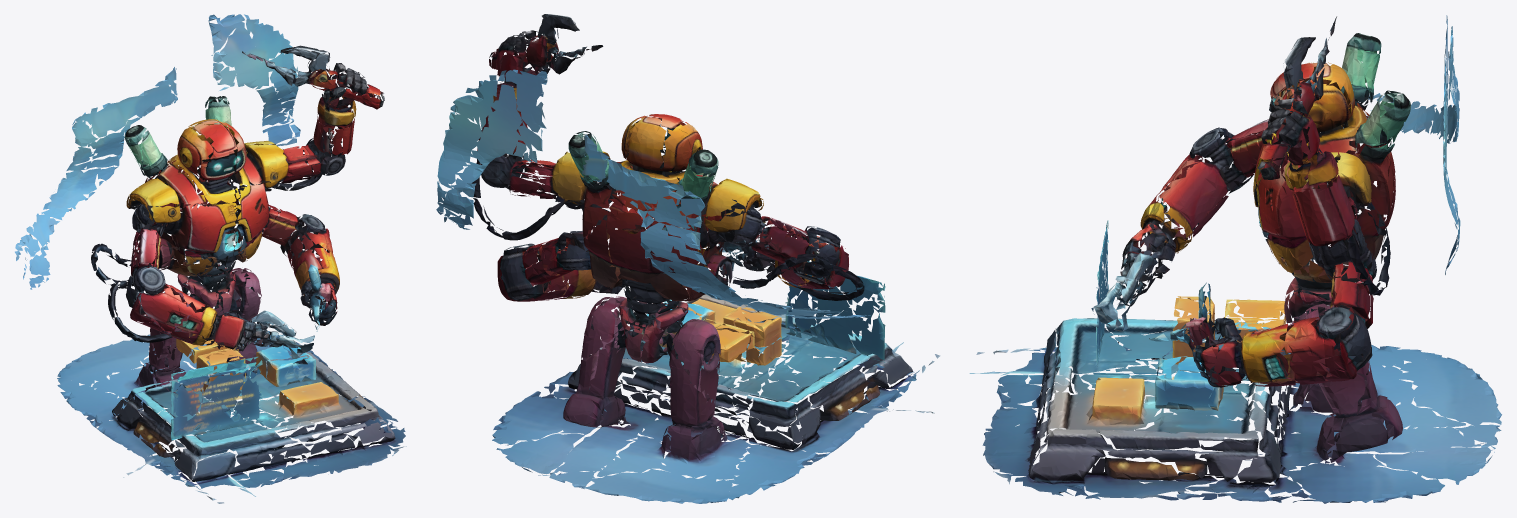
File: builder-g70.glb
3 views of the same model, side by side, from view 1: azimuth 30°, elevation 25°; view 2: azimuth 150°, elevation 25°; view 3: azimuth 270°, elevation 25° (orthographic). The views are drawn at different scales.
Parts seen in each view (by area): view 1: robot; view 2: robot; view 3: robot.
Part boxes in pixels (bbox=[...]): robot: bbox=[15, 14, 406, 503]; robot: bbox=[436, 14, 940, 503]; robot: bbox=[969, 15, 1501, 503].
Bounding box in the file's own units: 0.9749 × 0.896 × 0.9676.
Materials: 1 (1 with a texture image).
